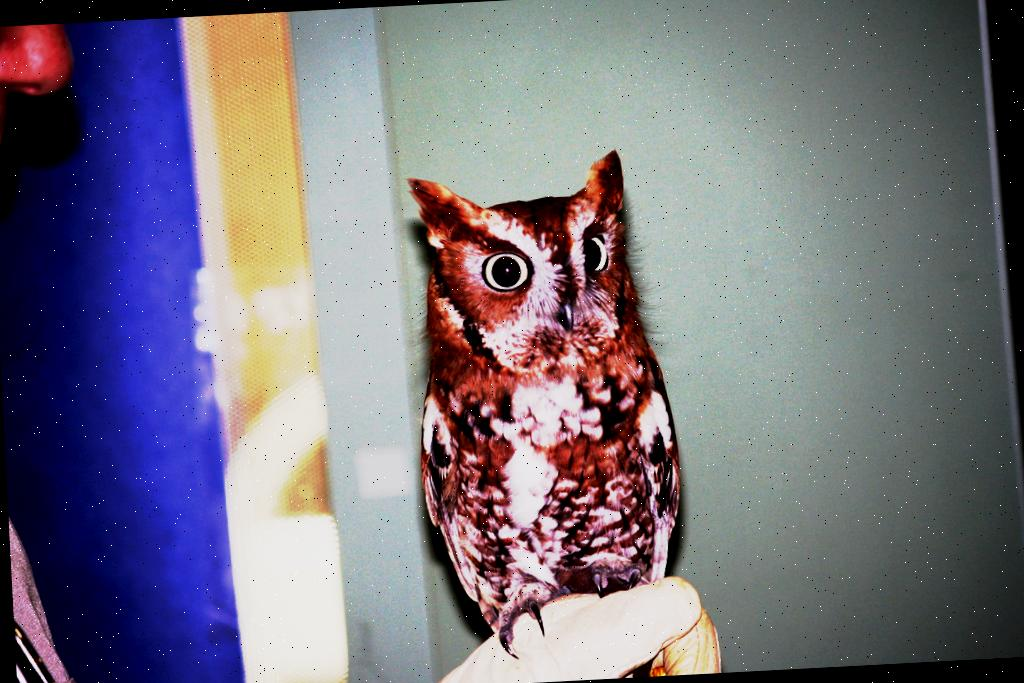Owl: (406, 145, 688, 670)
